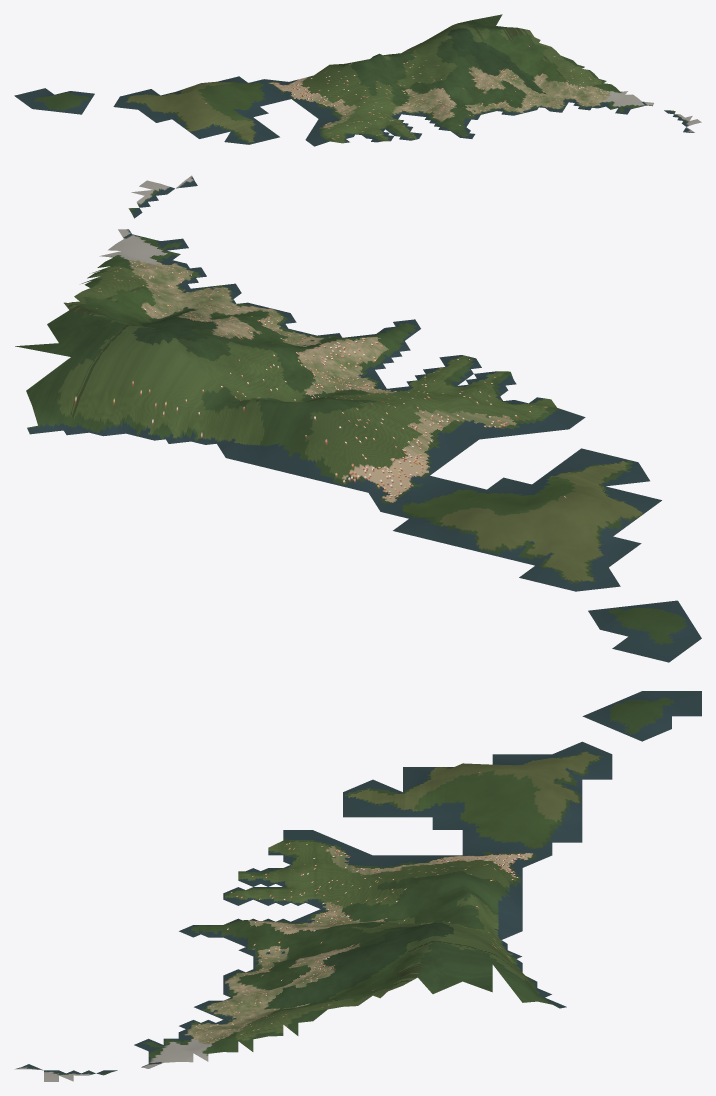
Rendered from SM_Fondale_Colline_S_LOD2.fbx.
3 views of the same model, one above another, from view 1: azimuth 30°, elevation 25°; view 2: azimuth 150°, elevation 25°; view 3: azimuth 270°, elevation 25° (orthographic). The views are drawn at different scales.
Parts seen in each view (by area): view 1: SM_Fondale_Colline_S_LOD2; view 2: SM_Fondale_Colline_S_LOD2; view 3: SM_Fondale_Colline_S_LOD2.
Part boxes in pixels (left/top/right/bottom): SM_Fondale_Colline_S_LOD2: left=14, top=14, right=701, bottom=146; SM_Fondale_Colline_S_LOD2: left=15, top=175, right=701, bottom=662; SM_Fondale_Colline_S_LOD2: left=14, top=691, right=701, bottom=1081.
Size of the model in its own units: 744000 by 552000 by 50034.
Materials: 1 (1 with a texture image).
